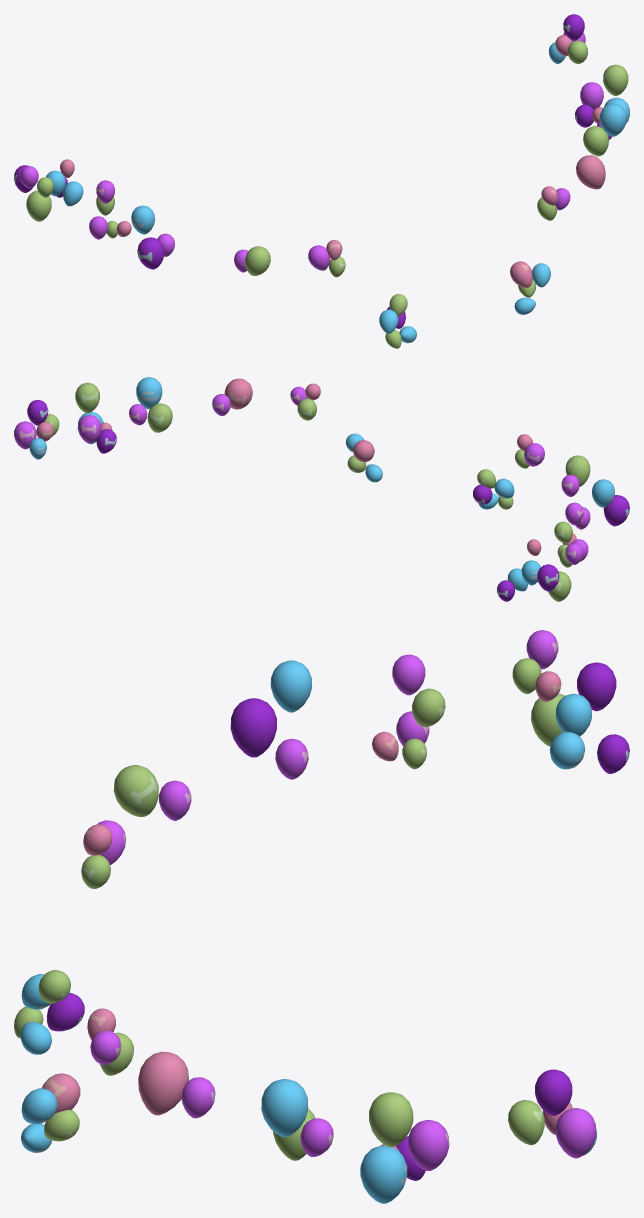
File: Balloon.fbx
3 renders of one model, top to bottom at view 1: azimuth 30°, elevation 25°; view 2: azimuth 150°, elevation 25°; view 3: azimuth 270°, elevation 25°, orthographic. The views are drawn at different scales.
Parts seen in each view (by area): view 1: Balloon007, Balloon029, Balloon043, Balloon033, Balloon032, Balloon038, Balloon035, Balloon024, Balloon019, Balloon01; view 2: Balloon007, Balloon029, Balloon033, Balloon043, Balloon032, Balloon038, Balloon019, Balloon024, Balloon020, Balloon041, Balloon040, Balloon035 (+10 smaller); view 3: Balloon007, Balloon043, Balloon028, Balloon029, Balloon033, Balloon038, Balloon024, Balloon019, Balloon020, Balloon041, Balloon040, Balloon034 (+20 smaller).
Part boxes in pixels (x1,y1,x2,y2): Balloon007: (576,155,605,189); Balloon029: (599,103,626,136); Balloon043: (137,237,164,269); Balloon033: (603,64,628,95); Balloon032: (583,126,608,156); Balloon038: (245,246,270,275); Balloon035: (26,190,51,221); Balloon024: (131,205,154,234); Balloon019: (580,82,603,109); Balloon01: (510,261,532,287); Balloon007: (224,378,252,409); Balloon029: (136,377,162,409); Balloon033: (75,382,99,413); Balloon043: (603,495,629,526); Balloon032: (147,403,172,432); Balloon038: (565,455,590,486); Balloon019: (78,415,101,443); Balloon024: (591,479,614,507); Balloon020: (14,421,36,449); Balloon041: (537,564,559,591); Balloon040: (27,400,48,425); Balloon035: (548,571,571,601); Balloon007: (138,1051,188,1115); Balloon043: (230,698,276,757); Balloon028: (360,1145,407,1203); Balloon029: (261,1079,308,1136); Balloon033: (369,1092,413,1147); Balloon038: (113,765,158,816); Balloon024: (270,660,312,712); Balloon019: (408,1120,449,1170); Balloon020: (556,1108,596,1158); Balloon041: (577,662,616,711); Balloon040: (535,1069,572,1115); Balloon034: (508,1100,544,1145).
Bounding box in the file's own units: 2620 × 624 × 1398.
